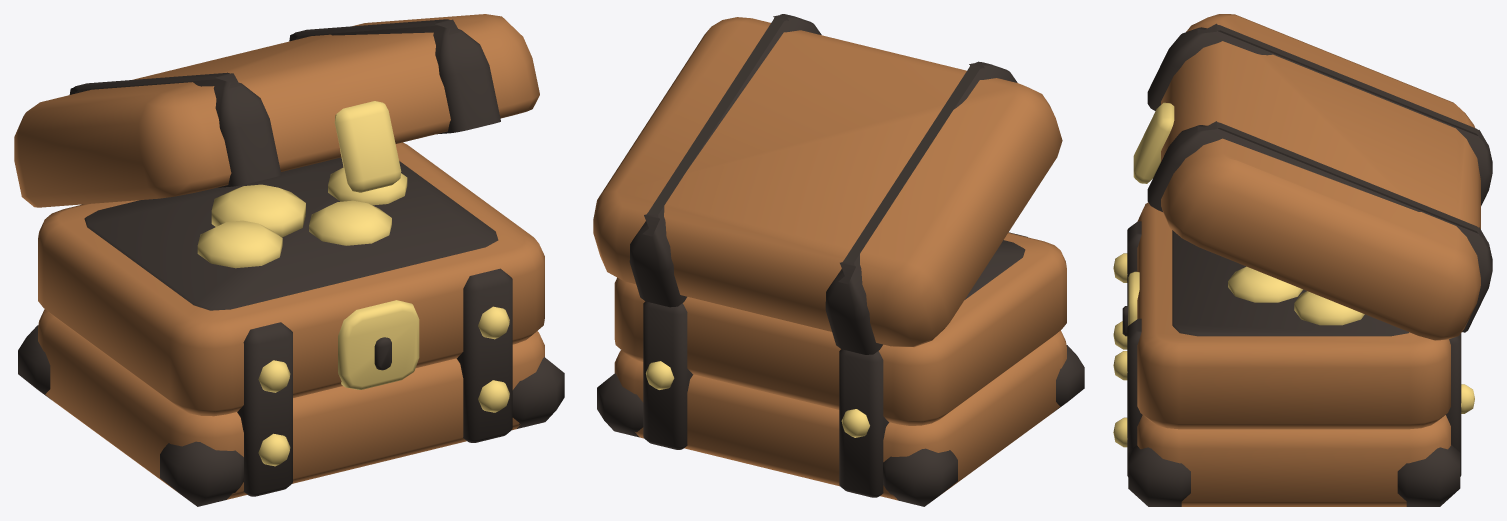
File: ShopCrate.fbx
The picture shows the model from 3 angles, left to right: view 1: azimuth 30°, elevation 25°; view 2: azimuth 150°, elevation 25°; view 3: azimuth 270°, elevation 25°; orthographic projection. The views are drawn at different scales.
Parts seen in each view (by area): view 1: ShopCrate; view 2: ShopCrate; view 3: ShopCrate.
Part boxes in pixels (x1,y1,x2,y2): ShopCrate: [14, 14, 564, 506]; ShopCrate: [593, 14, 1084, 506]; ShopCrate: [1113, 14, 1492, 506].
Bounding box in the file's own units: 0.44 × 0.4226 × 0.411.
